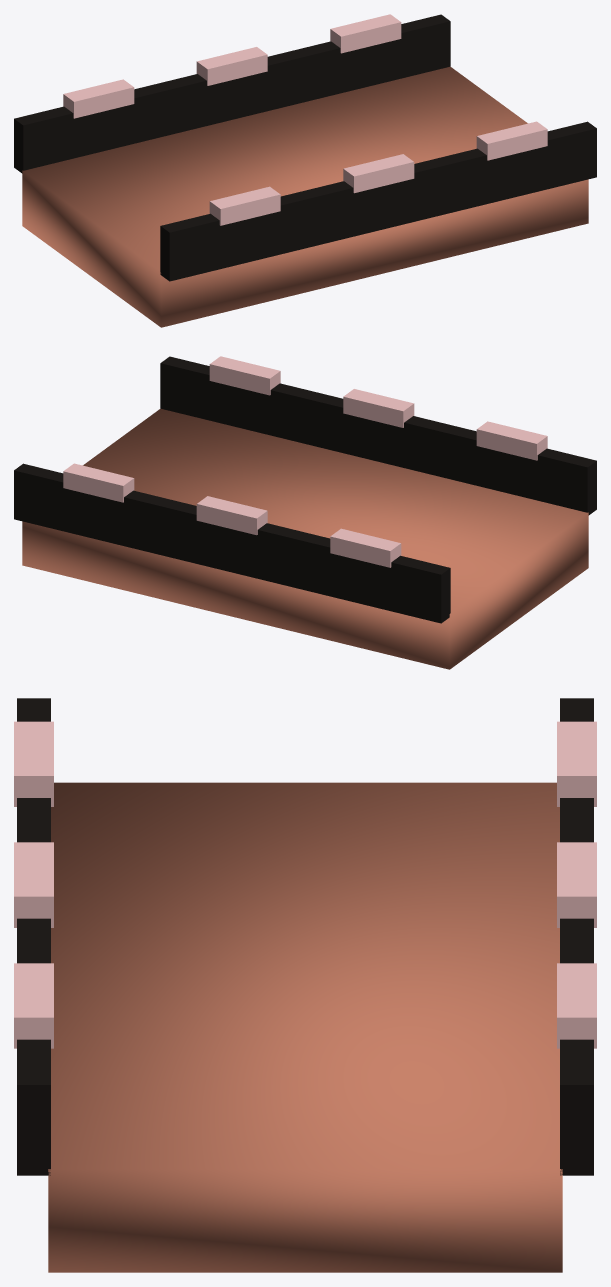
File: amsterdam-canal-bridge.glb
3 renders of one model, top to bottom at view 1: azimuth 30°, elevation 25°; view 2: azimuth 150°, elevation 25°; view 3: azimuth 270°, elevation 25°, orthographic. The views are drawn at different scales.
Parts seen in each view (by area): view 1: bridge_Arch, bridge_Rail_-0.95, bridge_Rail_0.95, bridge_Flowers_-1.0_0.95, bridge_Flowers_-1.0_-0.95, bridge_Flowers_0_-0.95, bridge_Flowers_1.0_0.95, bridge_Flowers_0_0.95, bridge_Flowers_1.0_-0.95; view 2: bridge_Arch, bridge_Rail_0.95, bridge_Rail_-0.95, bridge_Flowers_-1.0_0.95, bridge_Flowers_-1.0_-0.95, bridge_Flowers_0_0.95, bridge_Flowers_1.0_-0.95, bridge_Flowers_0_-0.95, bridge_Flowers_1.0_0.95; view 3: bridge_Arch, bridge_Rail_0.95, bridge_Rail_-0.95, bridge_Flowers_0_0.95, bridge_Flowers_0_-0.95, bridge_Flowers_1.0_0.95, bridge_Flowers_1.0_-0.95, bridge_Flowers_-1.0_0.95, bridge_Flowers_-1.0_-0.95.
Part boxes in pixels (x1,y1,x2,y2): bridge_Arch: (22,66,588,327); bridge_Rail_-0.95: (160,121,596,281); bridge_Rail_0.95: (14,14,450,173); bridge_Flowers_-1.0_0.95: (63,79,134,118); bridge_Flowers_-1.0_-0.95: (209,186,280,225); bridge_Flowers_0_-0.95: (343,154,414,193); bridge_Flowers_1.0_0.95: (330,14,401,53); bridge_Flowers_0_0.95: (196,47,267,85); bridge_Flowers_1.0_-0.95: (476,121,547,160); bridge_Arch: (22,408,588,669); bridge_Rail_0.95: (14,463,450,623); bridge_Rail_-0.95: (160,356,596,515); bridge_Flowers_-1.0_0.95: (330,528,401,567); bridge_Flowers_-1.0_-0.95: (476,421,547,460); bridge_Flowers_0_0.95: (196,496,267,535); bridge_Flowers_1.0_-0.95: (209,356,280,395); bridge_Flowers_0_-0.95: (343,389,414,427); bridge_Flowers_1.0_0.95: (63,463,134,502); bridge_Arch: (48,782,562,1272); bridge_Rail_0.95: (560,698,593,1175); bridge_Rail_-0.95: (17,698,50,1175); bridge_Flowers_0_0.95: (557,842,596,927); bridge_Flowers_0_-0.95: (14,842,53,927); bridge_Flowers_1.0_0.95: (557,963,596,1048); bridge_Flowers_1.0_-0.95: (14,963,53,1048); bridge_Flowers_-1.0_0.95: (557,721,596,806); bridge_Flowers_-1.0_-0.95: (14,721,53,806).
Size of the model in its own units: 3.2 by 0.81 by 2.04.
